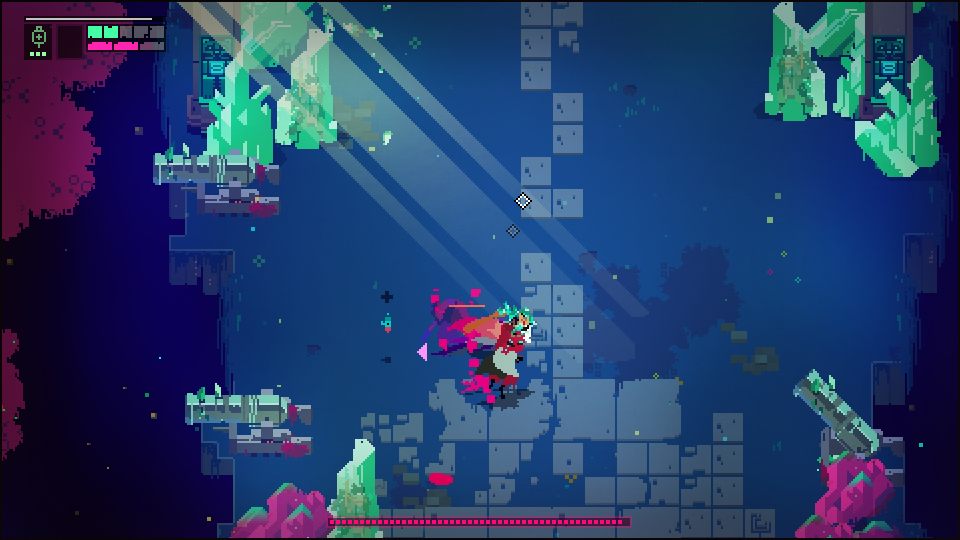hanged_man: (476, 299, 540, 400)
player: (446, 313, 514, 350)
